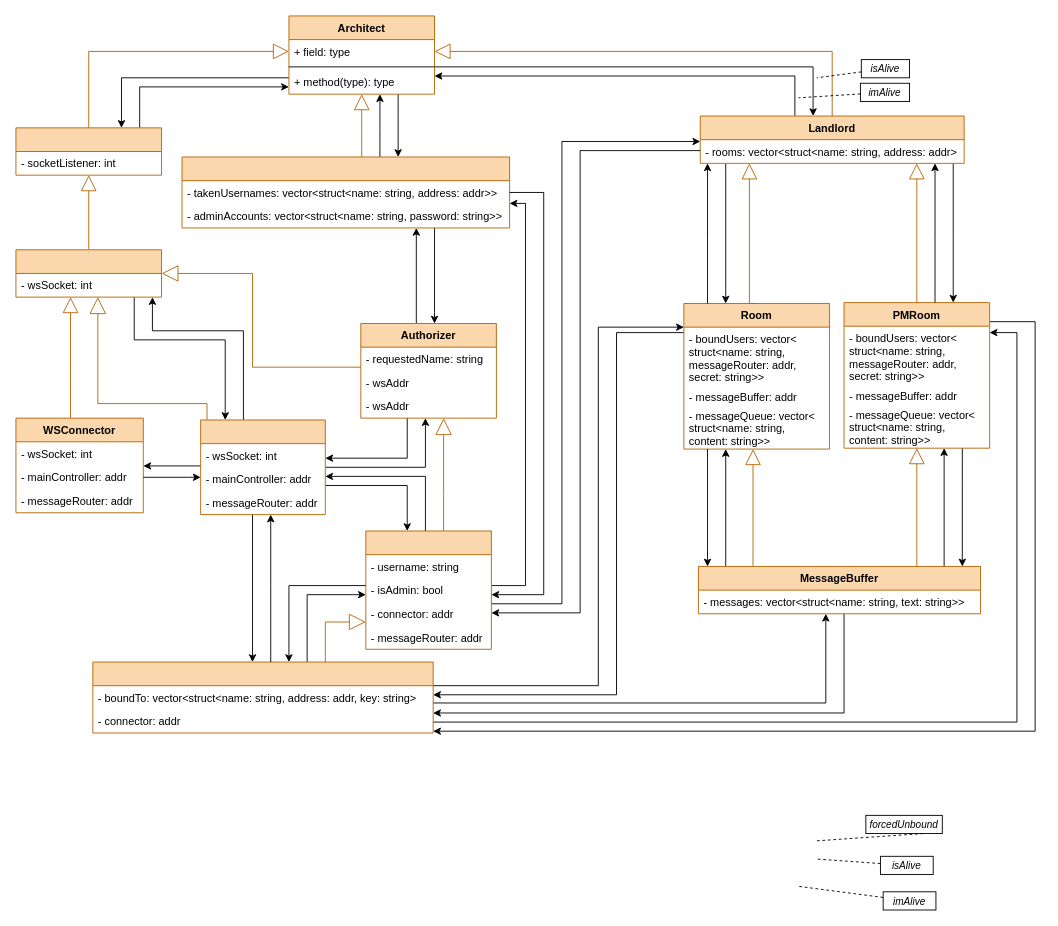
This 1058x926 diagram has some shape labels left out. Each missing label, with the box of its shape:
MessageRouter: (92, 661, 433, 733)
UserController: (200, 419, 325, 515)
UsernameLessor: (181, 156, 510, 228)
UserSession: (365, 530, 491, 649)
WSInitializer: (15, 249, 162, 297)
WSListener: (15, 127, 162, 175)
